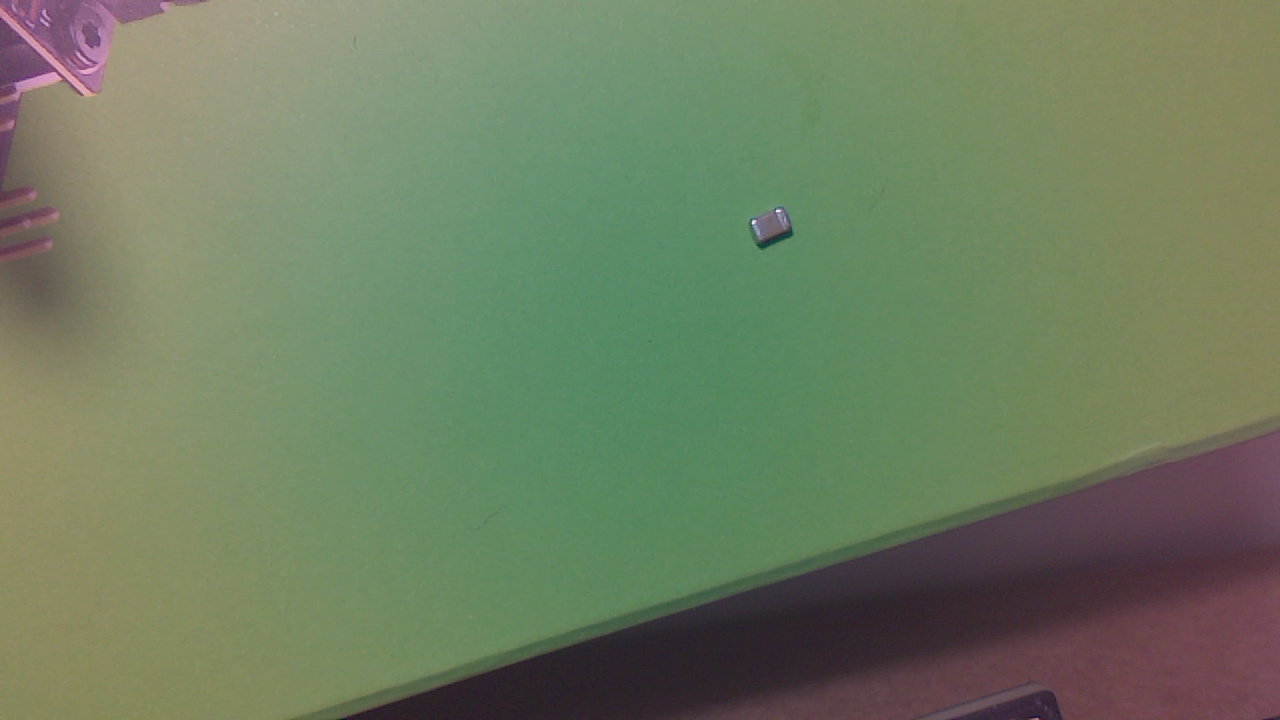Condensator: (753, 209, 797, 252)
